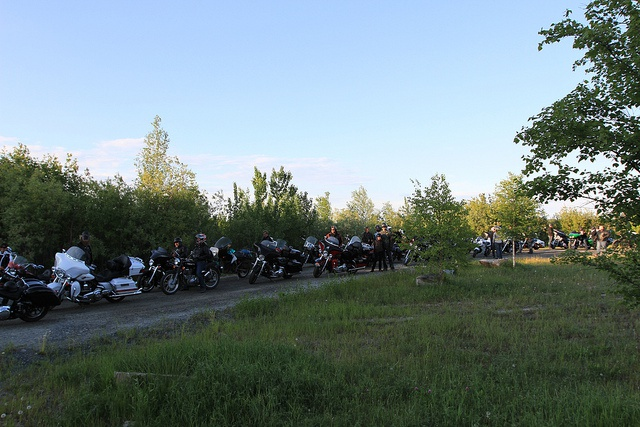non-vehicle: (45, 245, 145, 309), (0, 247, 70, 321), (159, 245, 219, 294), (248, 236, 309, 283), (312, 236, 363, 277), (208, 237, 257, 278), (137, 247, 175, 292), (345, 234, 373, 268), (298, 234, 320, 263)
